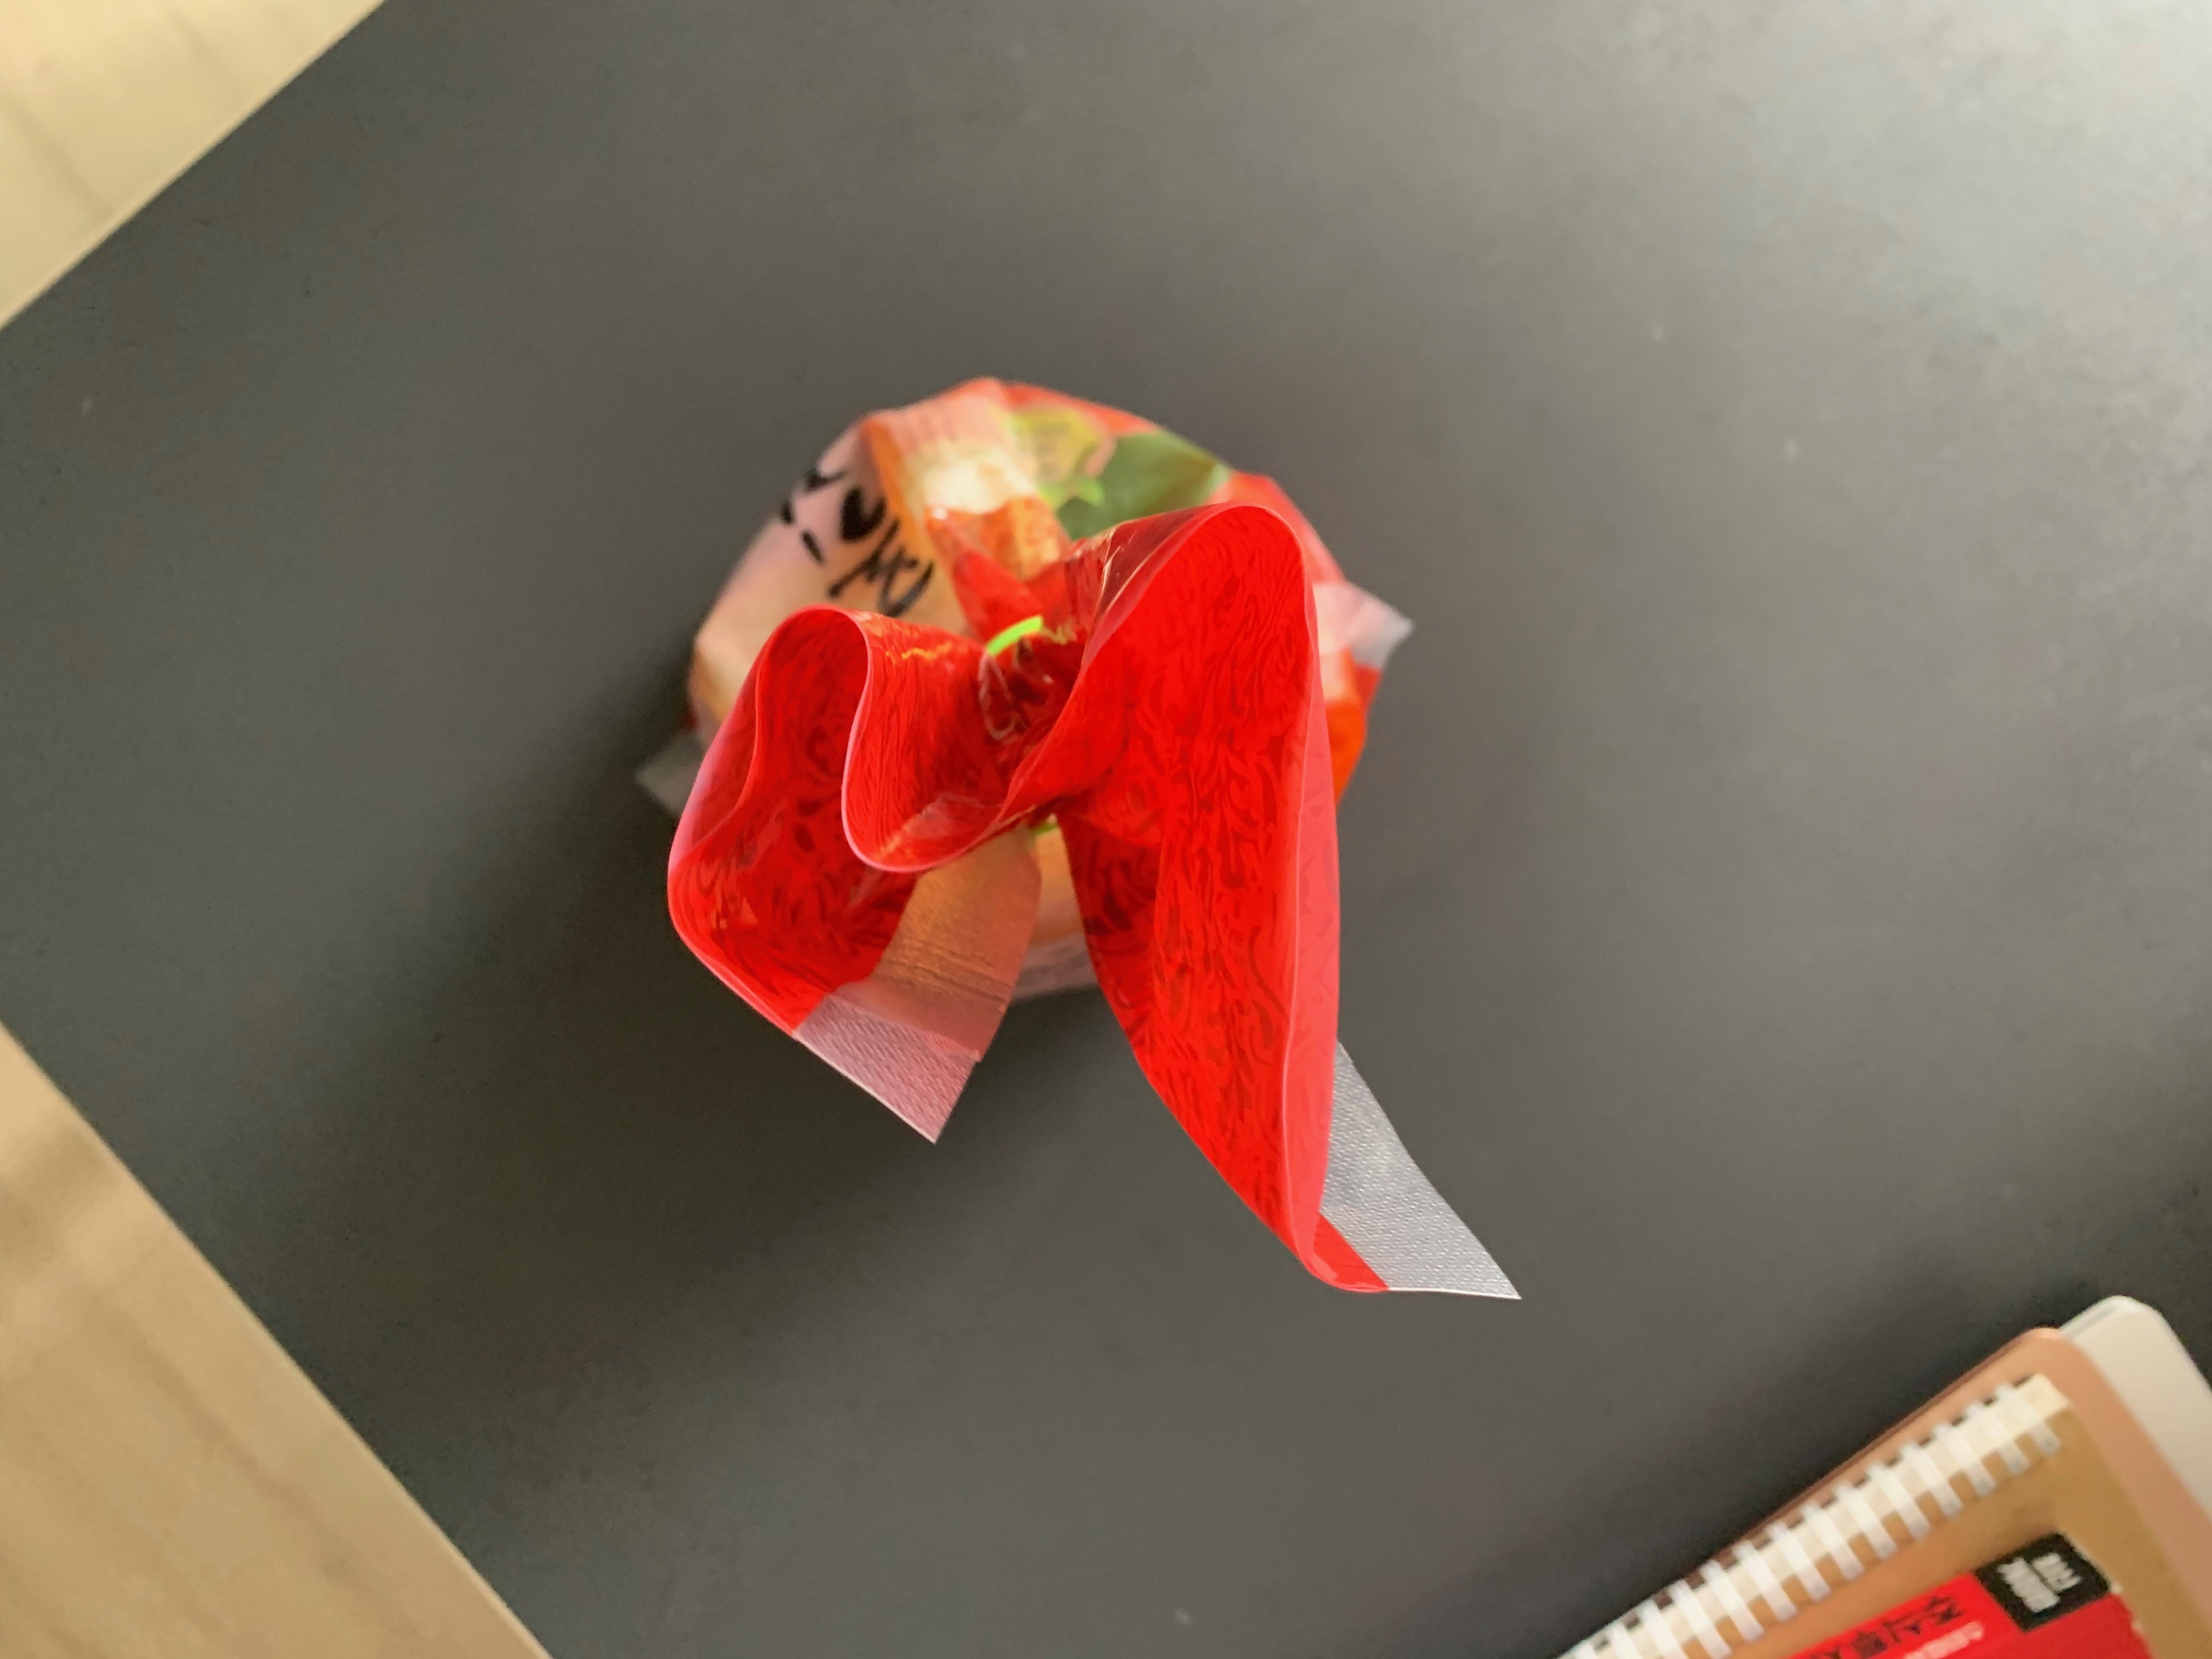kimchi: (667, 378, 1379, 1258)
